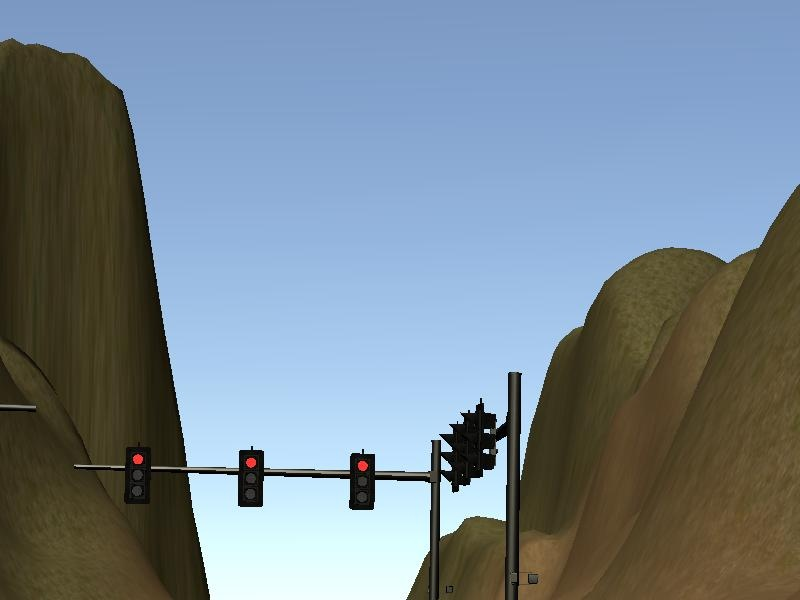red: (345, 452, 377, 513), (236, 450, 265, 513), (123, 450, 152, 510)
